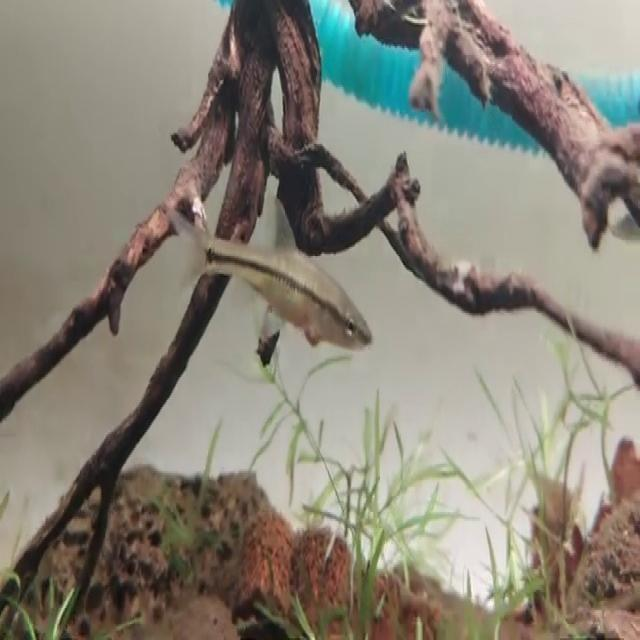Cakil Baligi: (165, 190, 373, 356)
